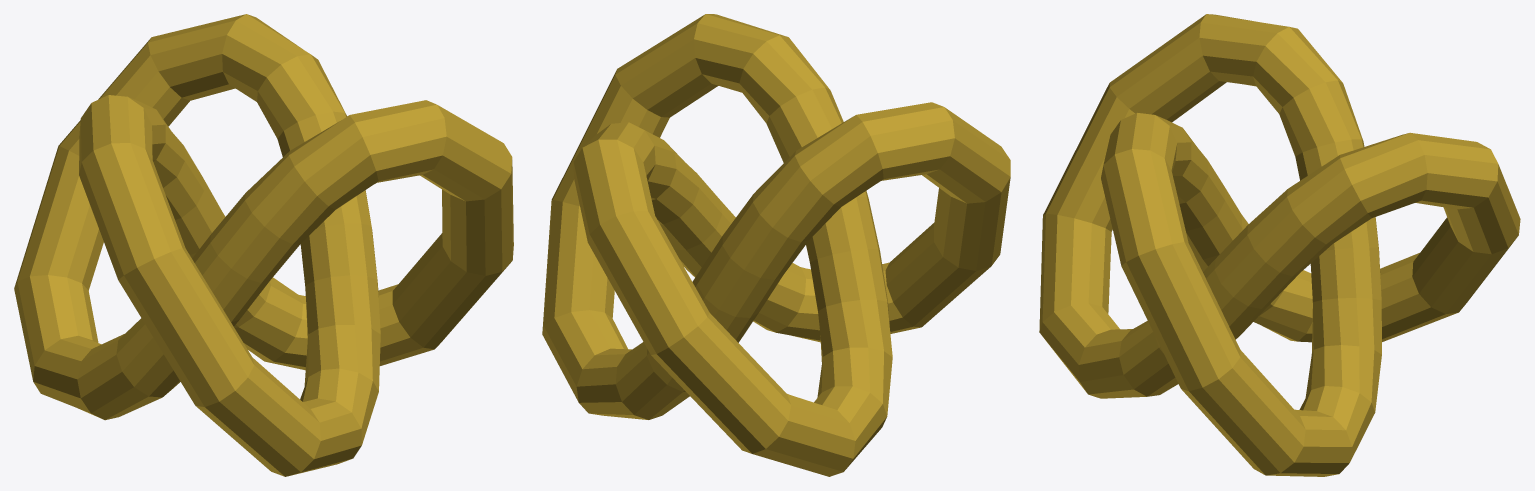
Rendered from noeud.fbx.
The picture shows the model from 3 angles, left to right: view 1: azimuth 30°, elevation 25°; view 2: azimuth 150°, elevation 25°; view 3: azimuth 270°, elevation 25°; orthographic projection. The views are drawn at different scales.
Parts seen in each view (by area): view 1: Torus Knot001; view 2: Torus Knot001; view 3: Torus Knot001.
Boxes of the visible parts, x1=… form: Torus Knot001: x1=14, y1=14, x2=513, y2=476; Torus Knot001: x1=542, y1=14, x2=1010, y2=476; Torus Knot001: x1=1039, y1=14, x2=1520, y2=476.
Size of the model in its own units: 83.39 by 65.46 by 85.4.
